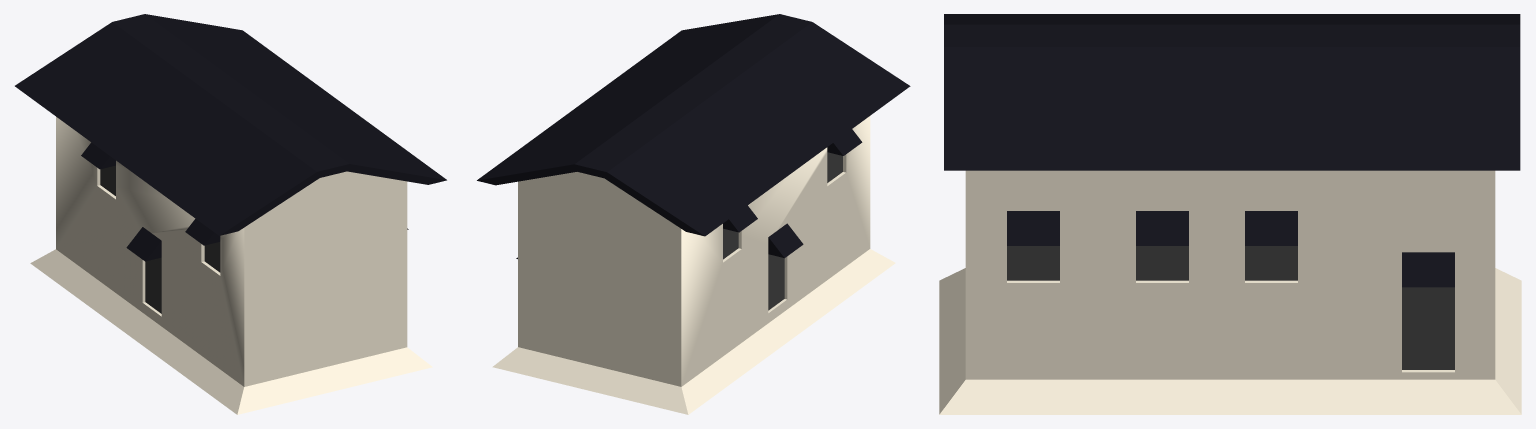
File: jadehouse10m.fbx
The picture shows the model from 3 angles, left to right: view 1: azimuth 30°, elevation 25°; view 2: azimuth 150°, elevation 25°; view 3: azimuth 270°, elevation 25°; orthographic projection. The views are drawn at different scales.
Parts seen in each view (by area): view 1: pCube31; view 2: pCube31; view 3: pCube31.
Part boxes in pixels (x1,y1,x2,y2): pCube31: (15,14,446,414); pCube31: (477,14,910,414); pCube31: (939,14,1521,414).
Size of the model in its own units: 7 by 6.5 by 11.
